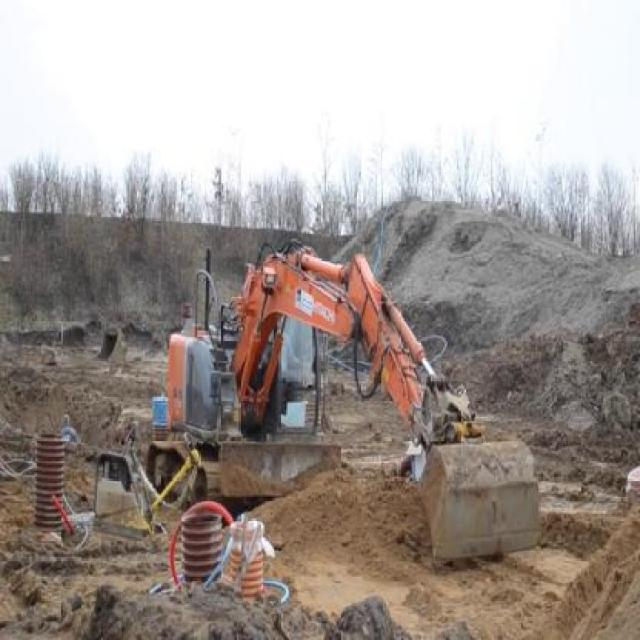excavator: (144, 222, 542, 556)
